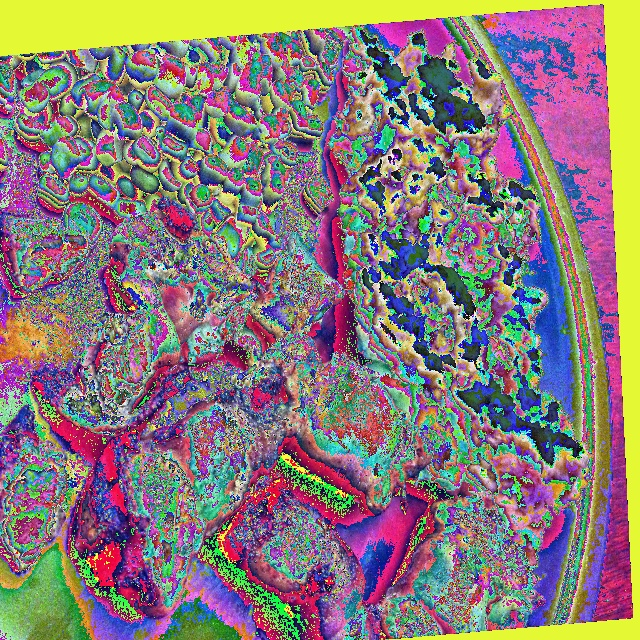background: (0, 26, 595, 639), (0, 169, 70, 572), (0, 40, 9, 172)
